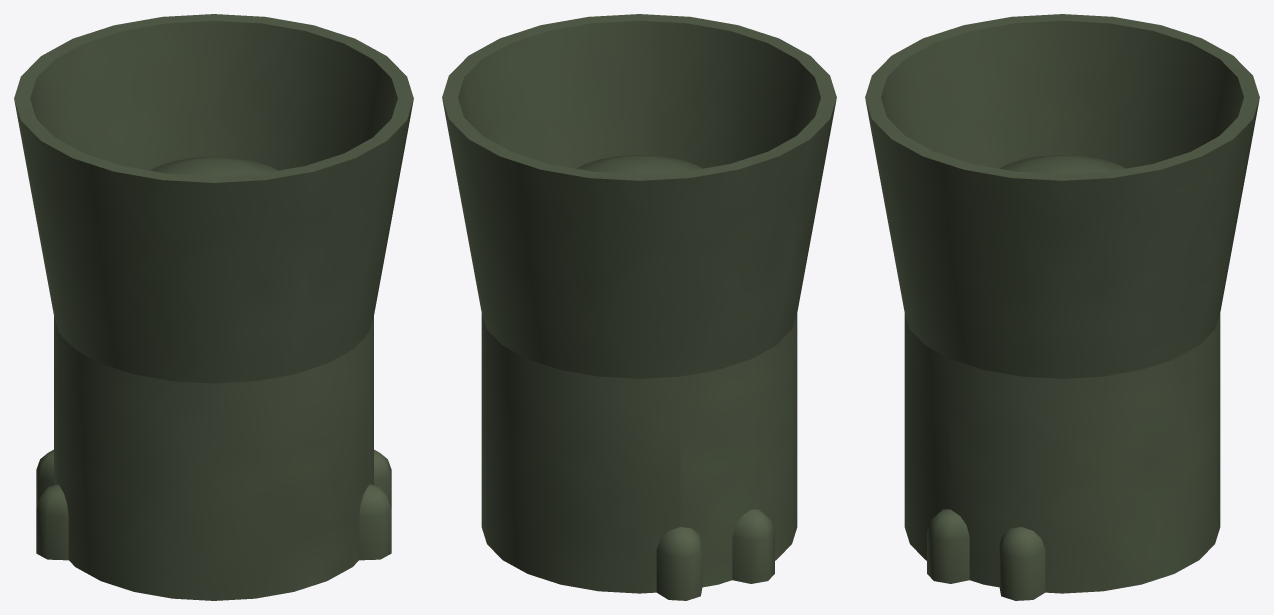
The model's file is avionics.fbx.
3 renders of one model, left to right at view 1: azimuth 30°, elevation 25°; view 2: azimuth 150°, elevation 25°; view 3: azimuth 270°, elevation 25°, orthographic.
Parts seen in each view (by area): view 1: fairing, mesh; view 2: fairing, mesh; view 3: fairing, mesh.
Part boxes in pixels (bbox=[...]): fairing: bbox=[14, 14, 413, 383]; mesh: bbox=[36, 156, 391, 600]; fairing: bbox=[442, 14, 836, 378]; mesh: bbox=[481, 154, 797, 600]; fairing: bbox=[865, 14, 1259, 378]; mesh: bbox=[904, 154, 1220, 600].
Bounding box in the file's own units: 0.625 × 0.7875 × 0.625.
